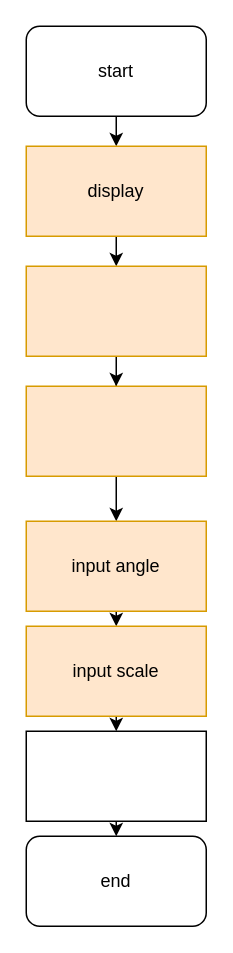
This 233x953 diagram has some shape labels left out. The shapes that lost their labels are listed below. From the top down, each one's centre as x and y in pixels, then its label:
At [115,310]: "input N".
At [115,430]: "input length".
At [115,775]: "call. fractaltree(n, length, angle, scale)".
